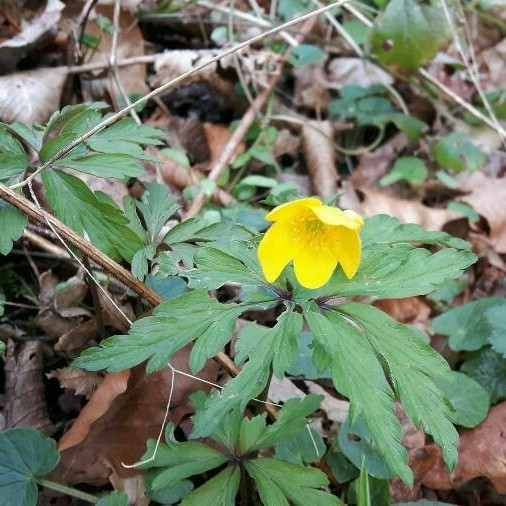obstacle: (134, 168, 438, 444)
